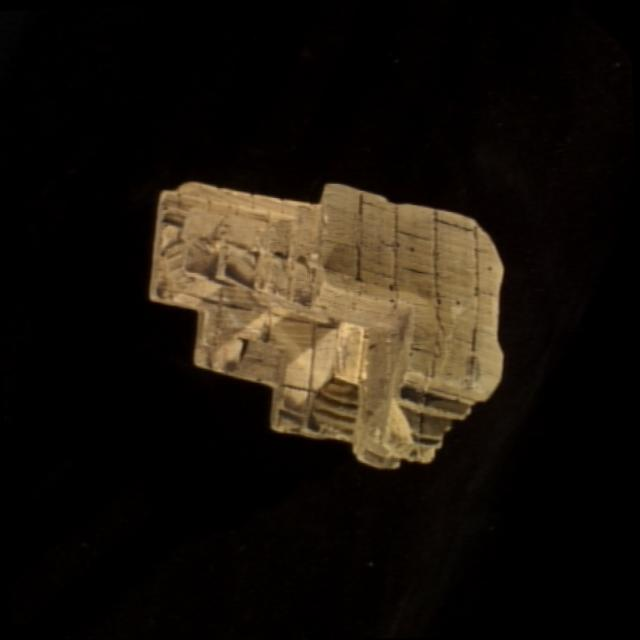Instance-Segmentation: (150, 185, 502, 467)
